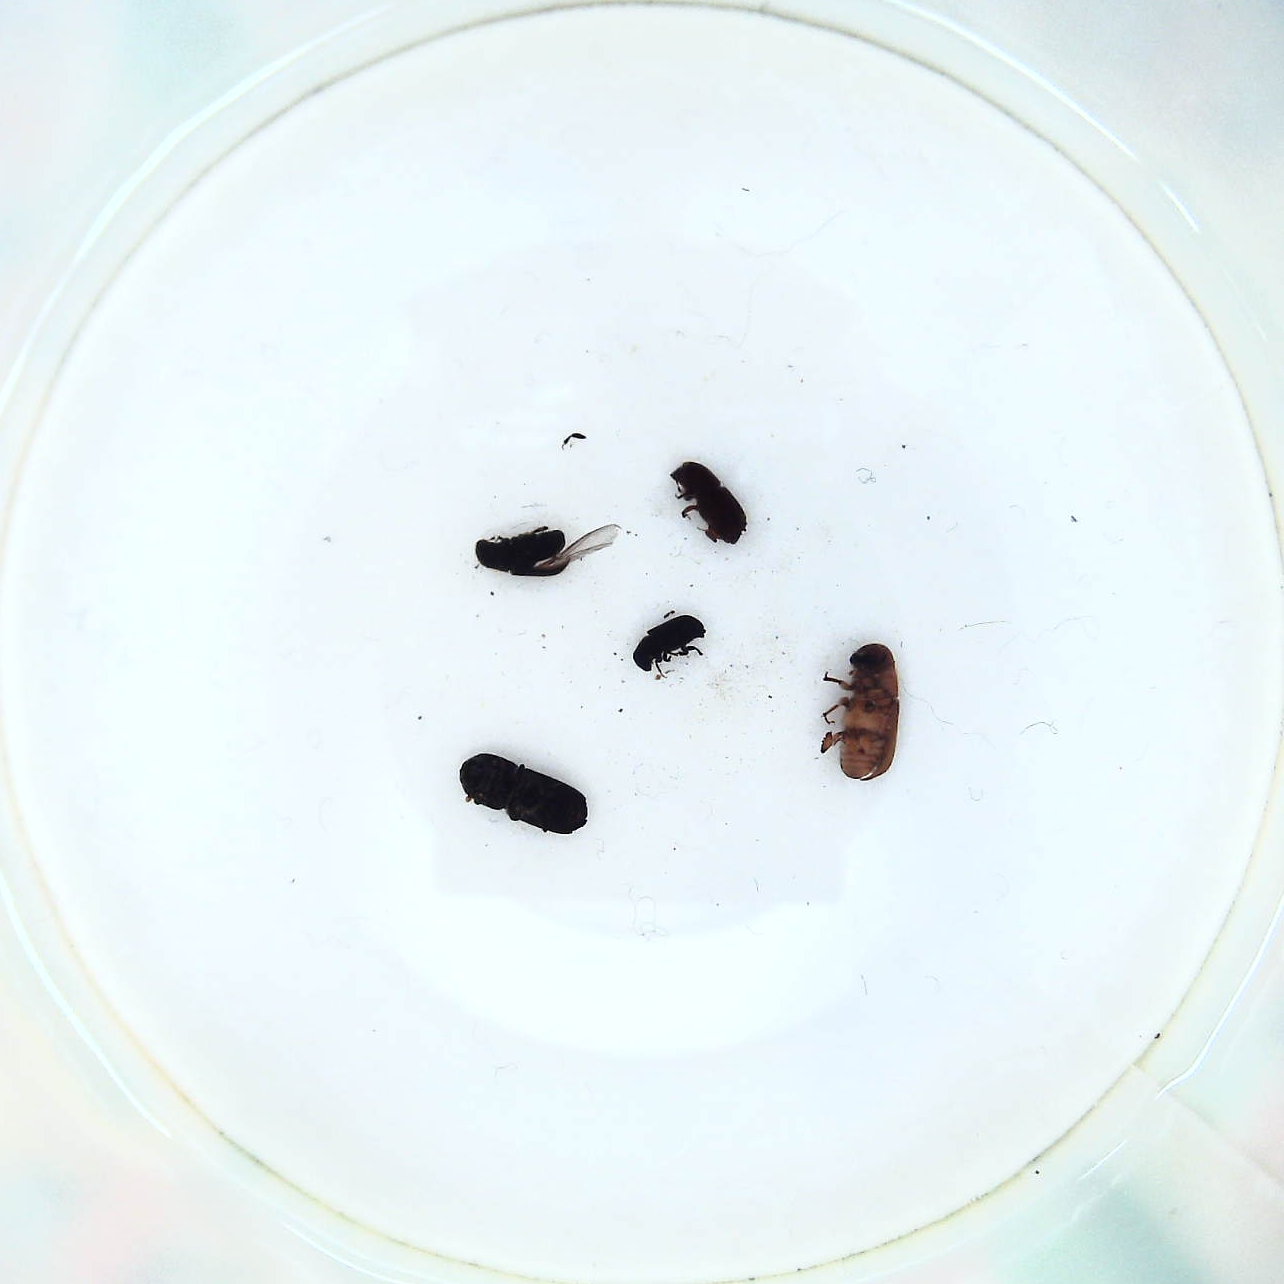Boerner: (452, 753, 594, 840)
Leconte: (812, 641, 907, 787)
armandi: (470, 519, 618, 586)
coleoptera: (631, 611, 709, 678)
linnaeus: (663, 453, 755, 548)
